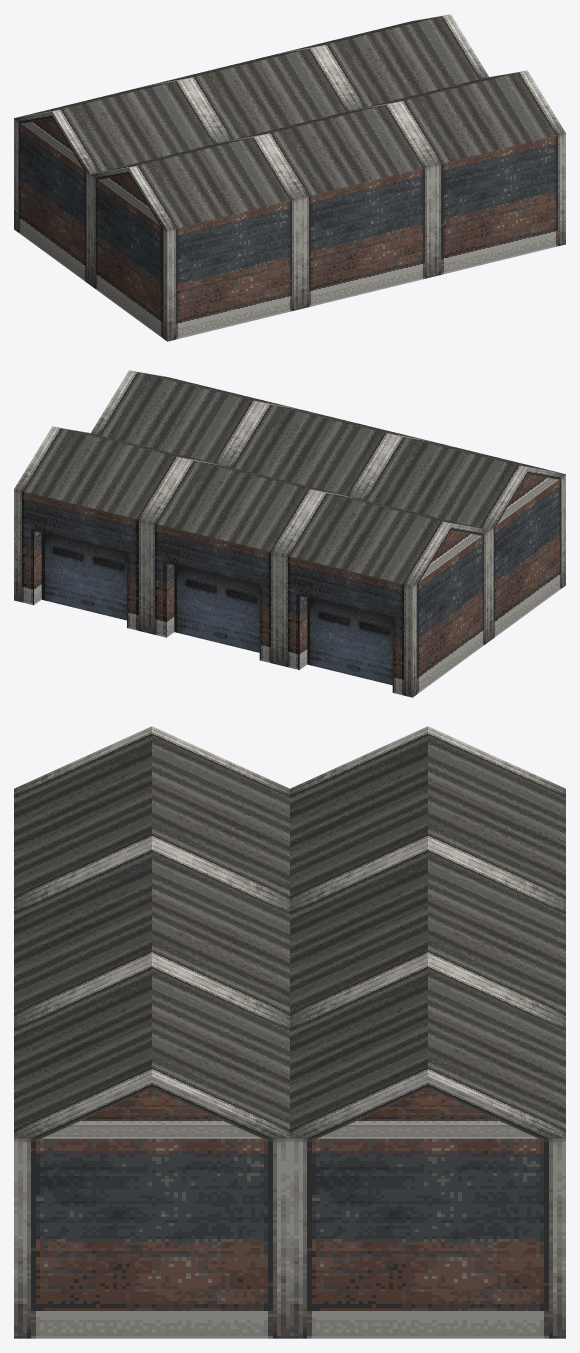
File: district-workshop.obj
The picture shows the model from 3 angles, top to bottom: view 1: azimuth 30°, elevation 25°; view 2: azimuth 150°, elevation 25°; view 3: azimuth 270°, elevation 25°; orthographic projection. The views are drawn at different scales.
Size of the model in its own units: 12 by 4.2 by 8.
